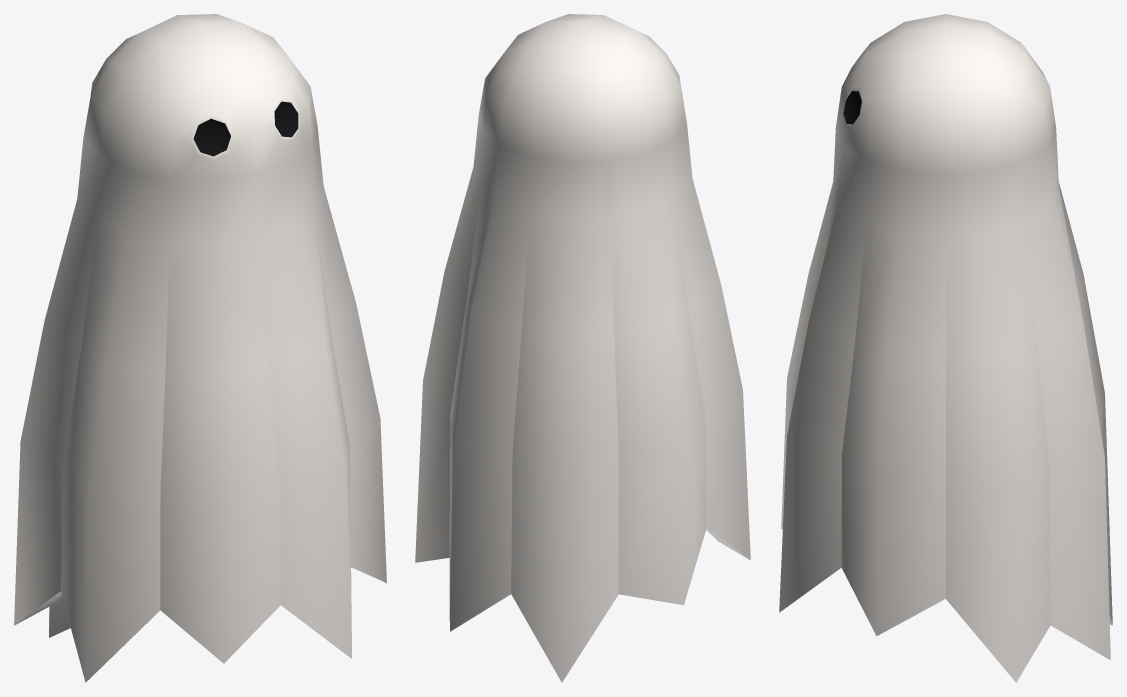
Rendered from Ghost_1.fbx.
3 renders of one model, left to right at view 1: azimuth 30°, elevation 25°; view 2: azimuth 150°, elevation 25°; view 3: azimuth 270°, elevation 25°, orthographic. The views are drawn at different scales.
Parts seen in each view (by area): view 1: Ghost_1; view 2: Ghost_1; view 3: Ghost_1.
Part boxes in pixels (x1,y1,x2,y2): Ghost_1: [14, 14, 386, 682]; Ghost_1: [415, 14, 750, 682]; Ghost_1: [779, 14, 1112, 682].
Size of the model in its own units: 17.89 by 37.33 by 17.89.
